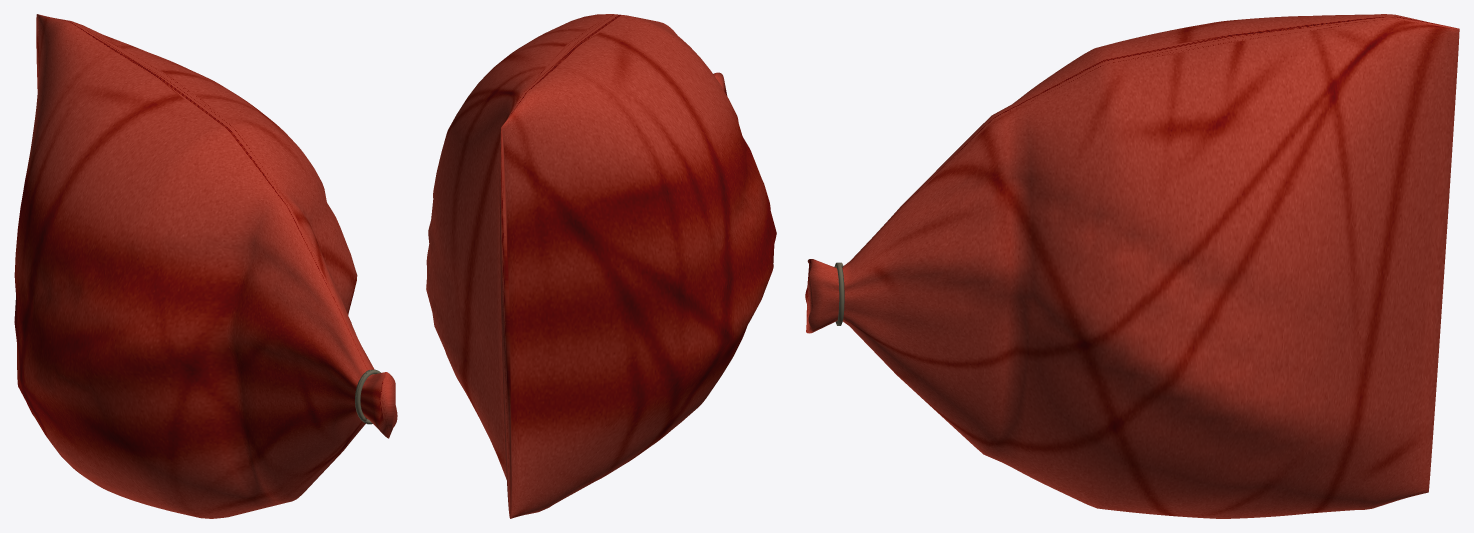
File: peach_01_016.glb
3 renders of one model, left to right at view 1: azimuth 30°, elevation 25°; view 2: azimuth 150°, elevation 25°; view 3: azimuth 270°, elevation 25°, orthographic. The views are drawn at different scales.
Parts seen in each view (by area): view 1: export_Tree01/shoot0_2_1/bag; view 2: export_Tree01/shoot0_2_1/bag; view 3: export_Tree01/shoot0_2_1/bag.
Boxes of the visible parts, bbox=[...] form: export_Tree01/shoot0_2_1/bag: bbox=[14, 14, 397, 518]; export_Tree01/shoot0_2_1/bag: bbox=[426, 14, 776, 518]; export_Tree01/shoot0_2_1/bag: bbox=[805, 14, 1459, 518].
Size of the model in its own units: 0.0937 by 0.1245 by 0.1506.
Materials: 4 (1 with a texture image).
